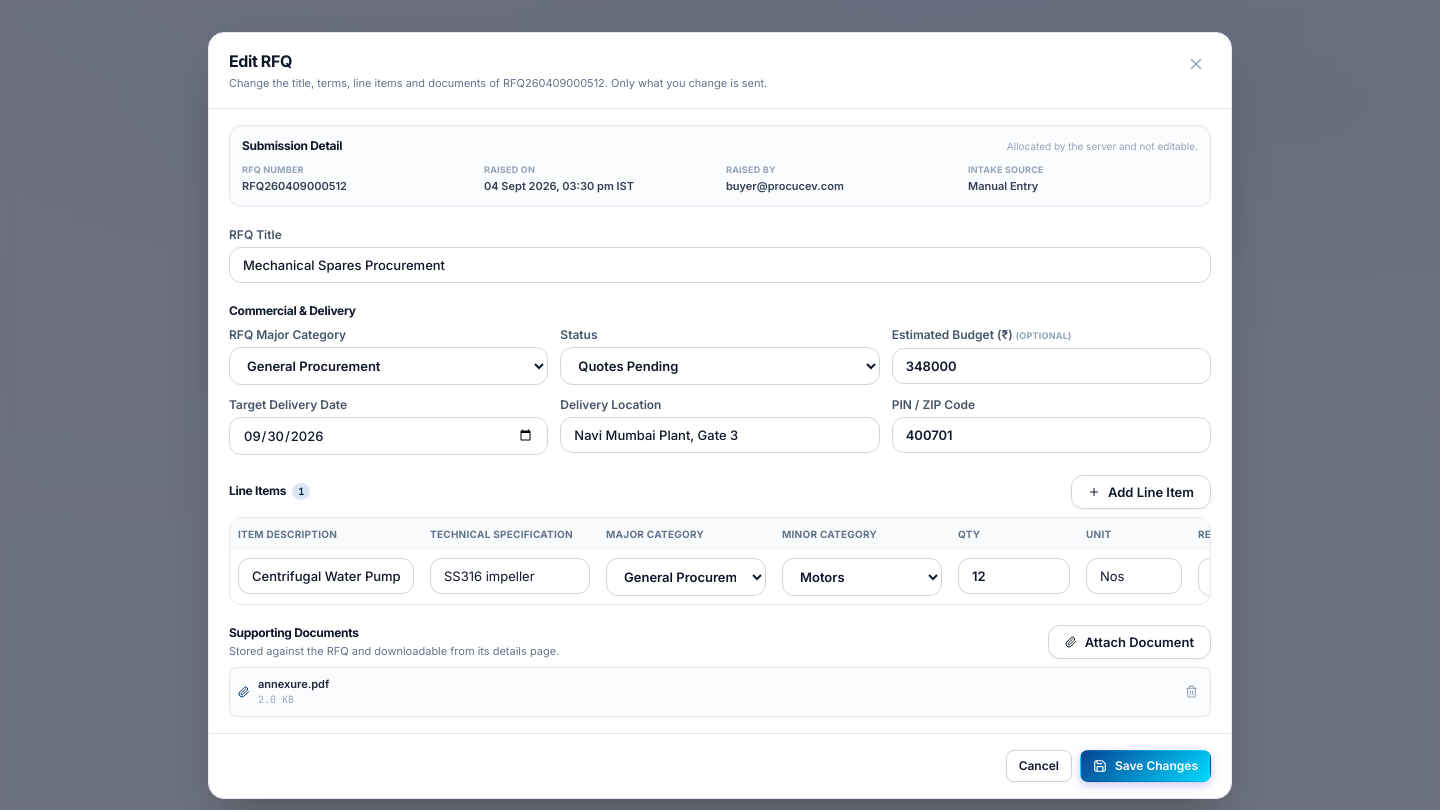
RFQEditModal: line items › a row whose categories are outside the taxonomy › reports no change when the dialog is only opened
Click the button "Save Changes" at (1145, 766), box [1080,750,1211,782]
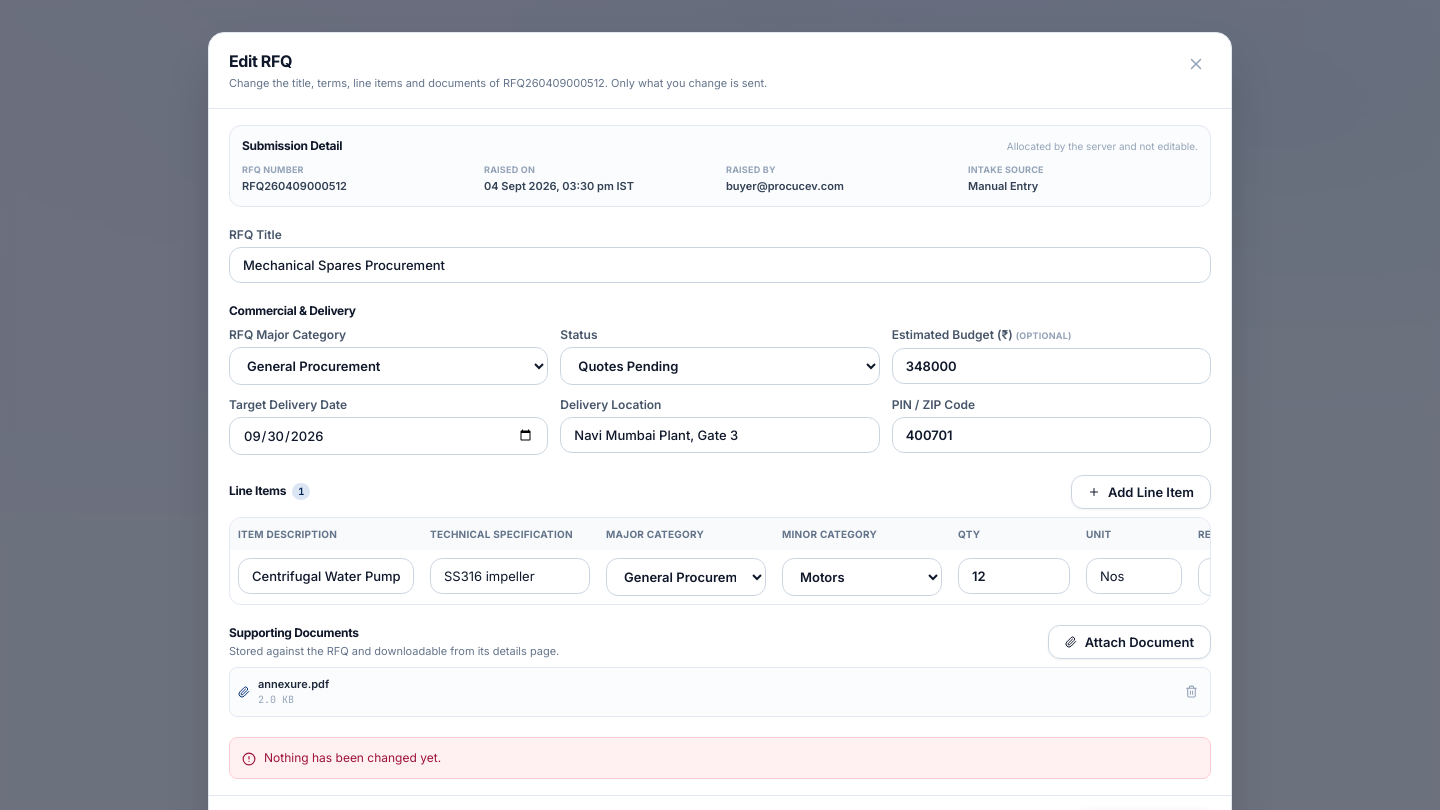
Check: the message reads "Nothing has been changed yet.", box [264,750,441,764]
